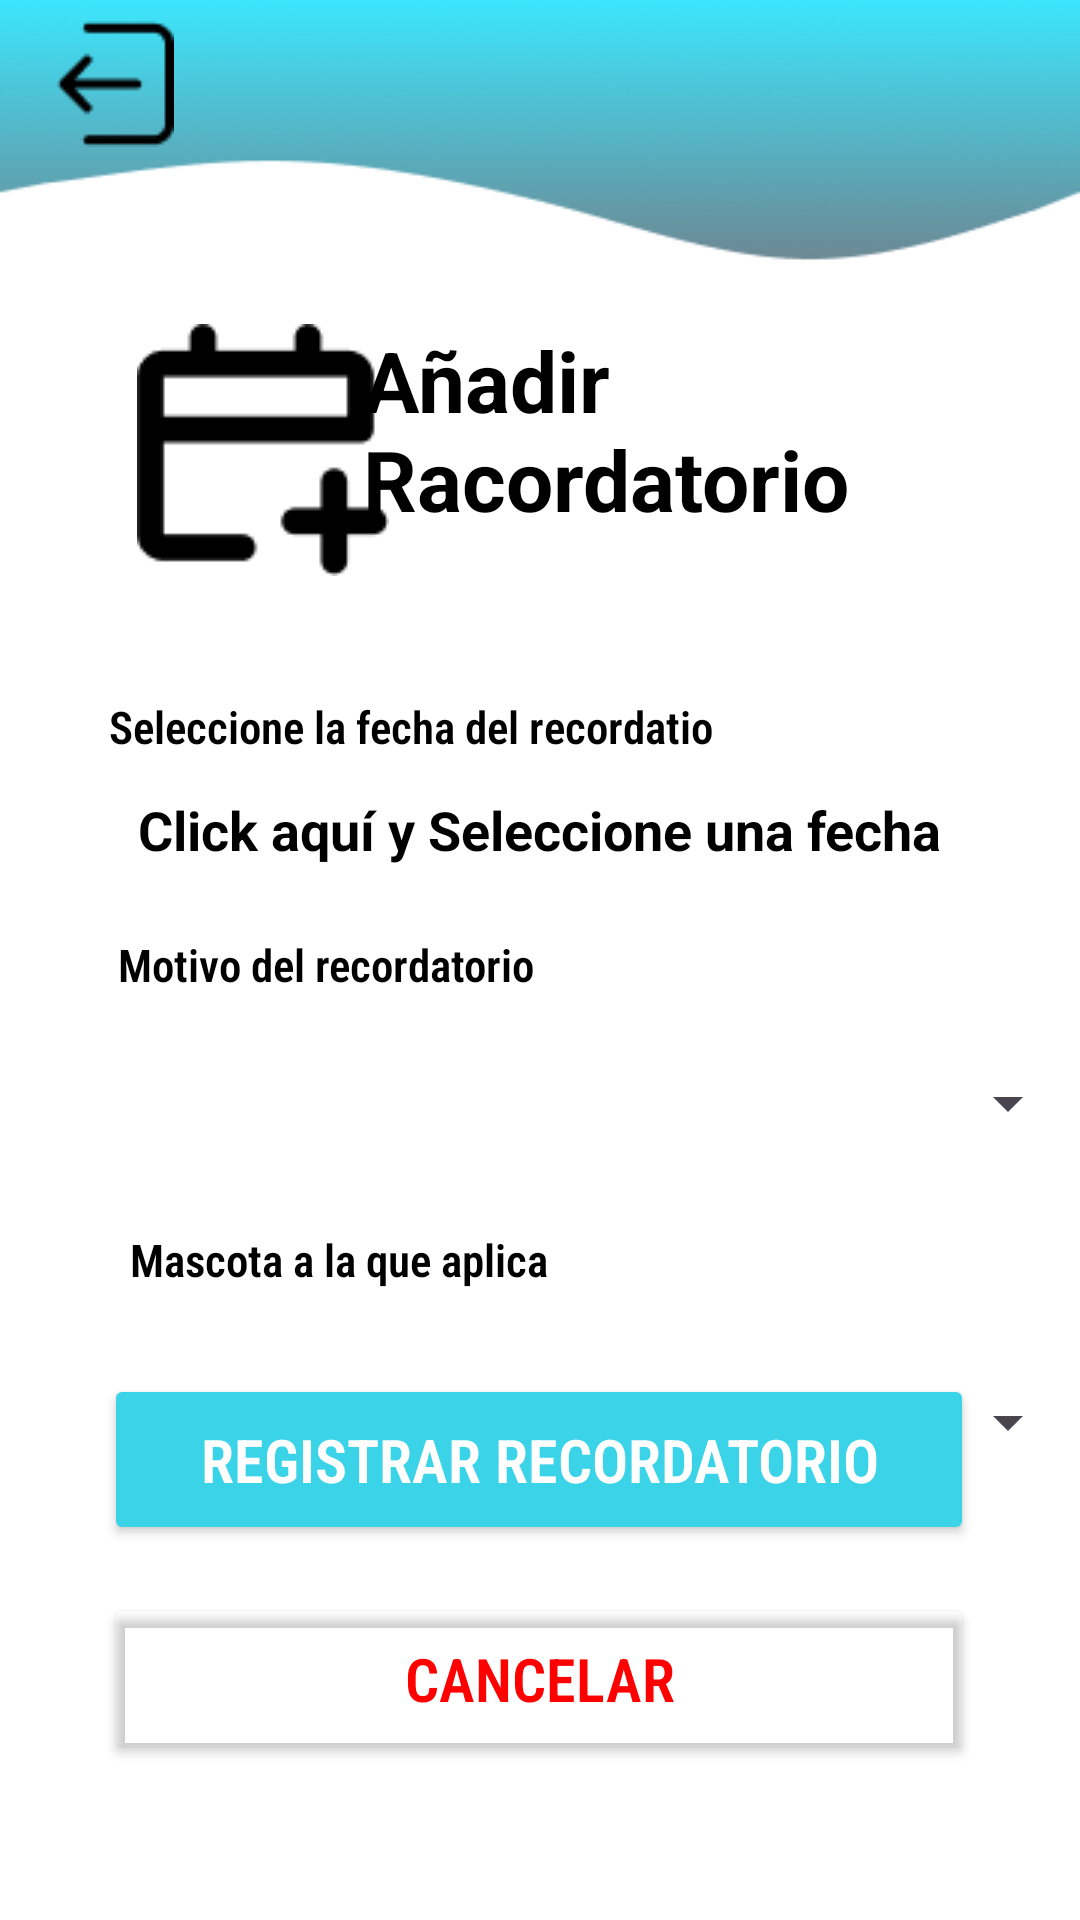

Where to tap for icons on this 1080px x 1920px app screen, as point (x, y):
btnvolver: point (115, 84)
calendario: point (263, 450)
